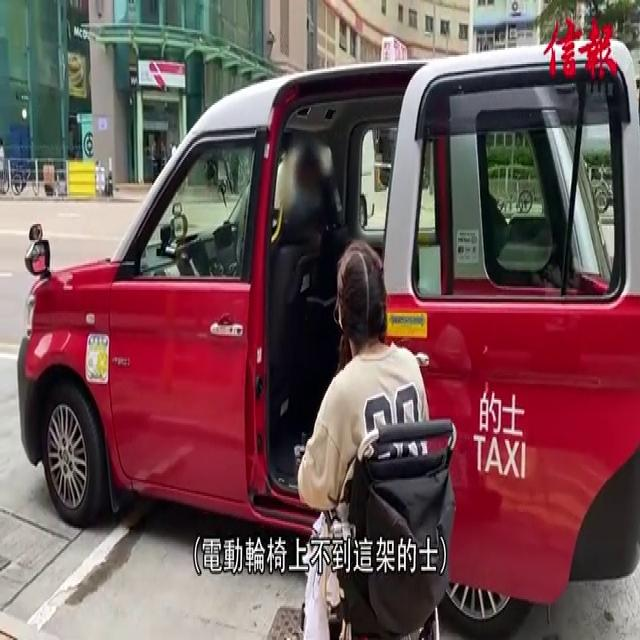wheelchairs: (284, 386, 470, 640)
